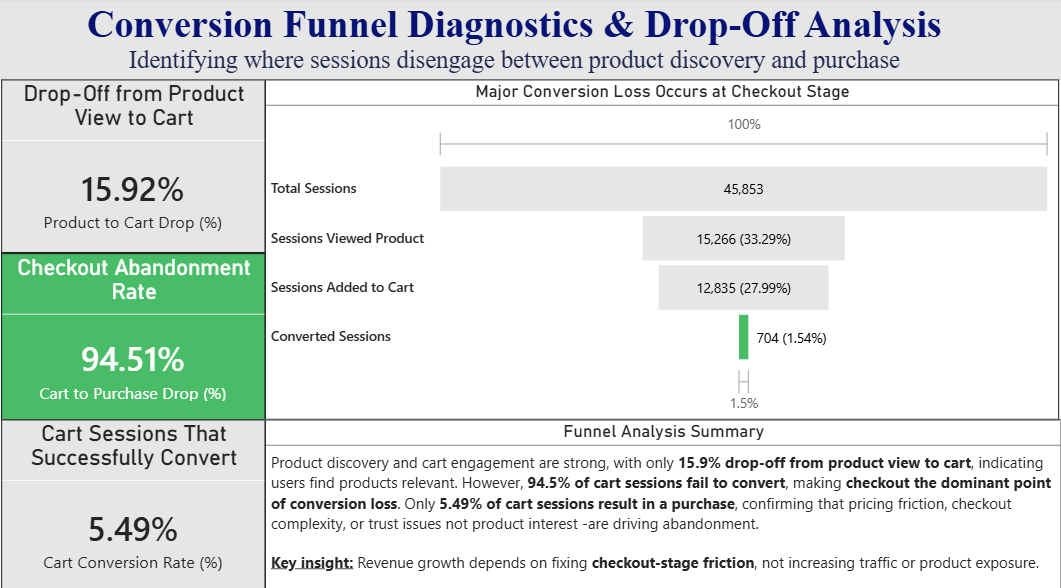

This screenshot's page, from the dashboard's own definition file:
{"tool":"powerbi","page":{"name":"Funnel Analysis","canvas":[1280,720],"ordinal":1},"visuals":[{"type":"cardVisual","title":"Drop-Off from Product View to Cart","fields":{"Data":["Marketing_Session_Analysis.Product to Cart Drop (%)"]},"box":[138.2,80.9,258.5,169.2],"z":0,"group":"g1"},{"type":"textbox","box":[0,0,1280.3,81.3],"z":1000},{"type":"cardVisual","title":"Checkout Abandonment Rate","fields":{"Data":["Marketing_Session_Analysis.Cart to Purchase Drop (%)"]},"box":[138.2,250.1,258.5,163.1],"z":1000,"group":"g1"},{"type":"cardVisual","title":"Cart Sessions That Successfully Convert","fields":{"Data":["Marketing_Session_Analysis.Cart Conversion Rate (%)"]},"box":[138.2,413.2,258.5,169.2],"z":2000,"group":"g1"},{"type":"funnel","title":"Major Conversion Loss Occurs at Checkout Stage","fields":{"Y":["Marketing_Session_Analysis.Total Sessions","Marketing_Session_Analysis.Sessions Viewed Product","Marketing_Session_Analysis.Sessions Added to Cart","Marketing_Session_Analysis.Converted Sessions"]},"box":[395.9,80.7,776.5,332.6],"z":3000,"group":"g1"},{"type":"textbox","box":[395.7,413.9,776,168],"z":4000,"group":"g1"},{"type":"textbox","title":"Funnel Analysis Summary","box":[396,413.7,778.9,167.5],"z":5000,"group":"g1"},{"type":"group","id":"g1","title":"Group 1","box":[138.2,80.7,1036.7,501.7],"z":5003}]}

Visuals, with their boxes in screenshot pixels (x1, y1, x2, y2), scaled from the page's 1280x720 canvas onto the 1061x588 screenshot:
"Drop-Off from Product View to Cart" cardVisual: x1=115 y1=66 x2=329 y2=204
textbox: x1=0 y1=0 x2=1060 y2=66
"Checkout Abandonment Rate" cardVisual: x1=115 y1=204 x2=329 y2=337
"Cart Sessions That Successfully Convert" cardVisual: x1=115 y1=337 x2=329 y2=476
"Major Conversion Loss Occurs at Checkout Stage" funnel: x1=328 y1=66 x2=972 y2=338
textbox: x1=328 y1=338 x2=971 y2=475
"Funnel Analysis Summary" textbox: x1=328 y1=338 x2=974 y2=475
"Group 1" group: x1=115 y1=66 x2=974 y2=476
